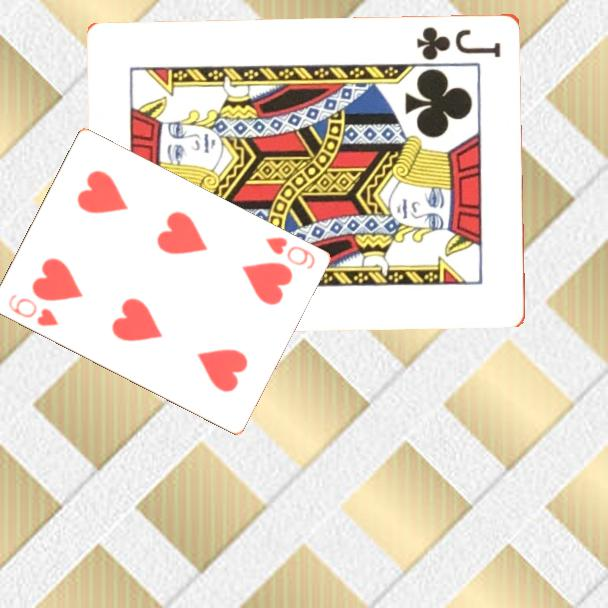c11: (414, 23, 504, 62)
h06: (4, 291, 61, 330), (262, 233, 318, 272)
